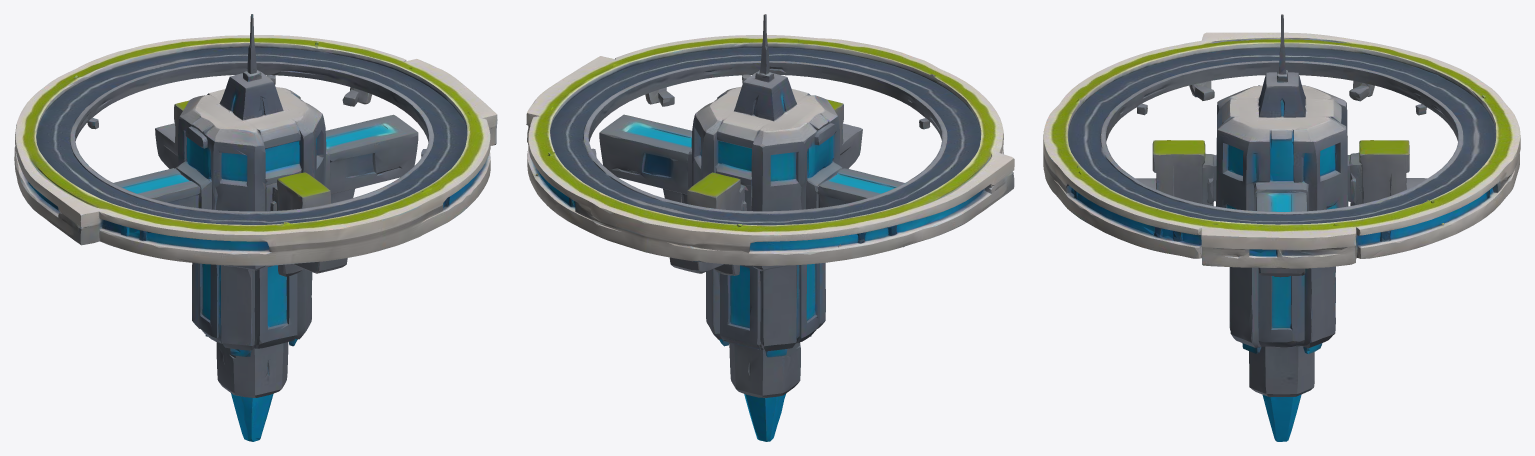
3 renders of one model, left to right at view 1: azimuth 30°, elevation 25°; view 2: azimuth 150°, elevation 25°; view 3: azimuth 270°, elevation 25°, orthographic.
Visible parts, largest first — view 1: Mesh; view 2: Mesh; view 3: Mesh.
Boxes of the visible parts, bbox=[...] form: Mesh: bbox=[14, 14, 497, 441]; Mesh: bbox=[526, 14, 1014, 441]; Mesh: bbox=[1043, 14, 1520, 441].
Bounding box in the file's own units: 1.9 × 1.83 × 1.86.
1 material, 1 textured.
